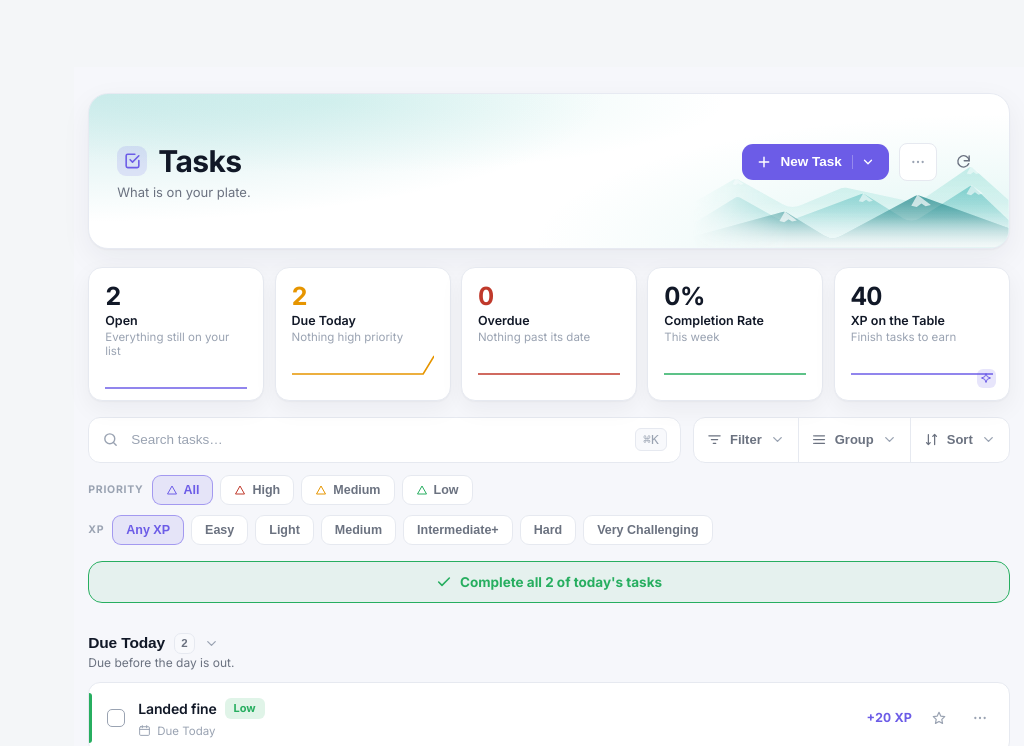
Test: finishing the day from the tasks page › does not queue a review for a task the server refused to complete
Click the button "Complete all 2 of today's tasks": (549, 582) top-left (88, 560), bottom-right (1010, 602)
(page scrolled)
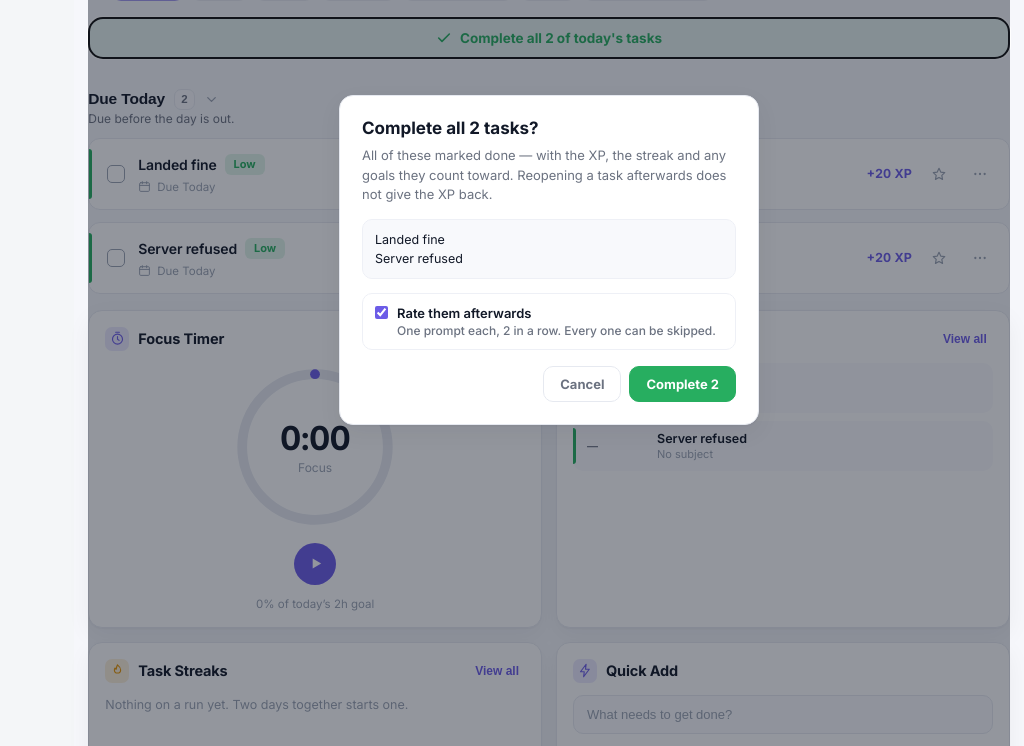
Click the button "Complete 2": (683, 384) top-left (629, 366), bottom-right (736, 402)
(page scrolled)
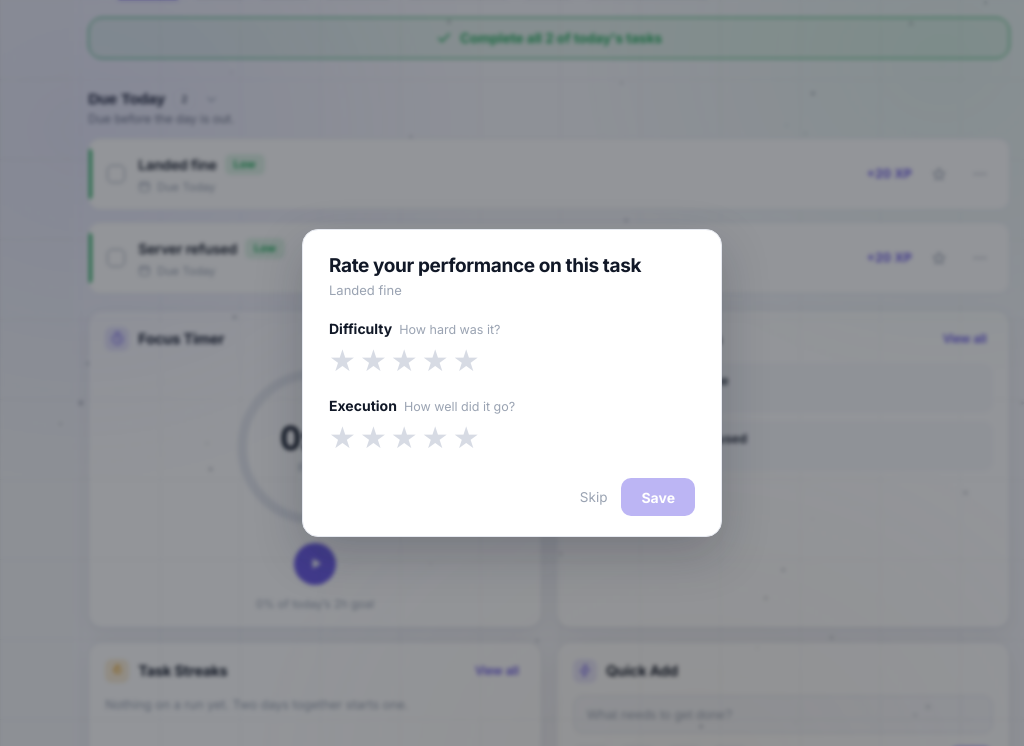
Check: the text "Landed fine" is shown, box top-left (329, 282), bottom-right (402, 298)
Click the button "Skip": (594, 497) top-left (580, 489), bottom-right (607, 505)
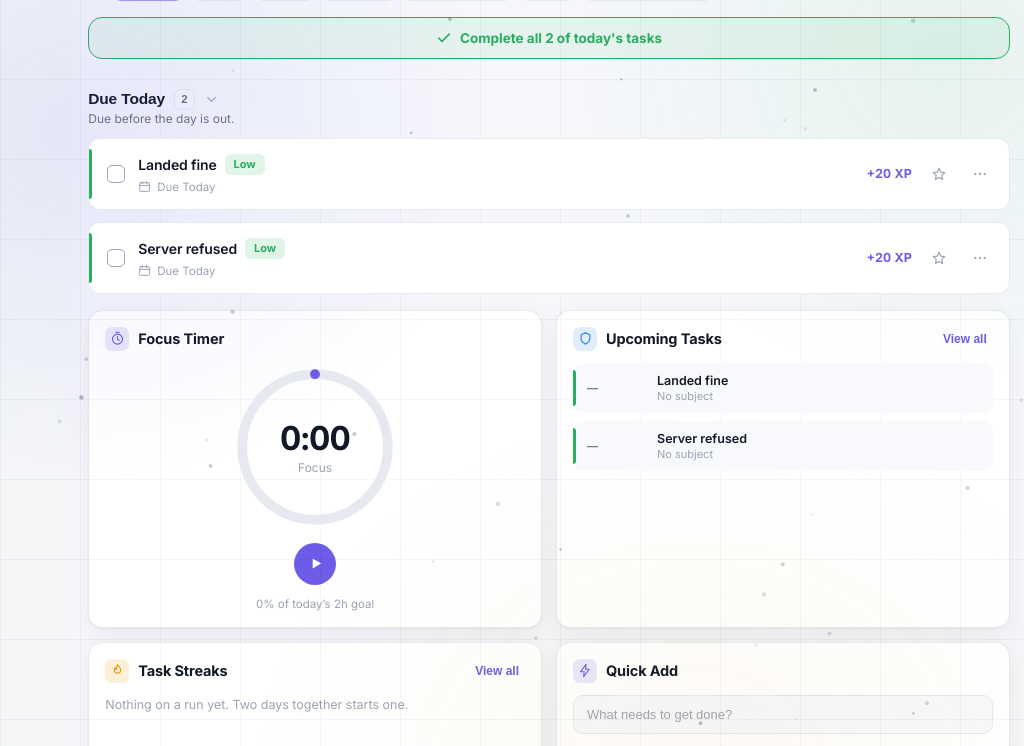
Check: the heading "Rate your performance on this task" is gone
